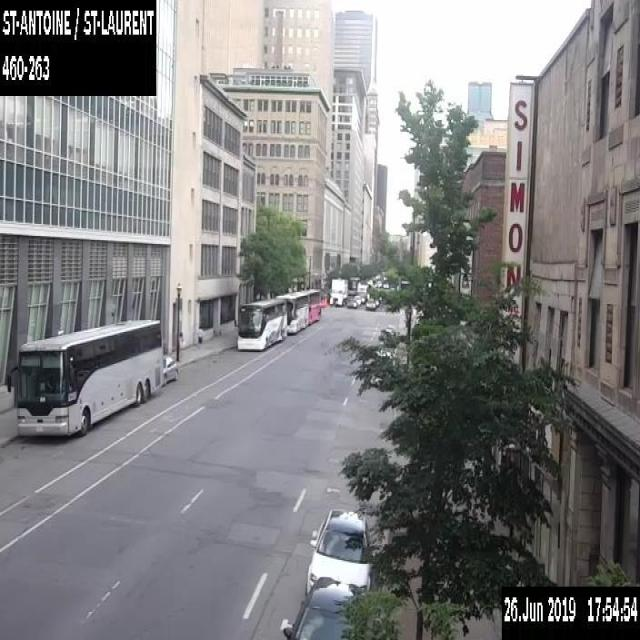bus: (6, 318, 162, 438), (234, 297, 286, 351), (275, 288, 320, 334)
construction: (321, 297, 324, 306), (324, 297, 326, 305)
vehicle: (304, 508, 374, 595), (283, 576, 366, 638), (162, 354, 178, 386), (329, 277, 347, 304), (356, 280, 368, 302), (346, 297, 357, 307), (365, 298, 375, 308), (352, 294, 360, 304), (372, 297, 378, 305), (382, 280, 388, 287), (375, 280, 381, 287), (377, 295, 381, 300)
